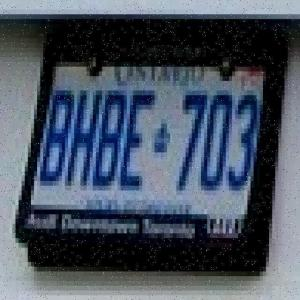Plate: (6, 9, 283, 291)
